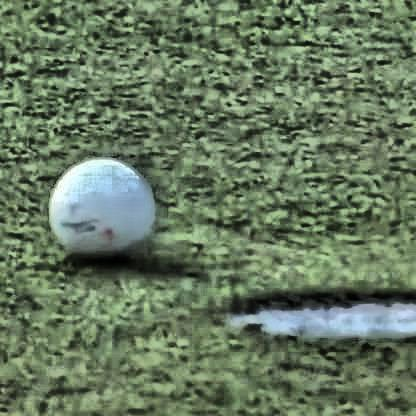golfball: (46, 158, 152, 260)
